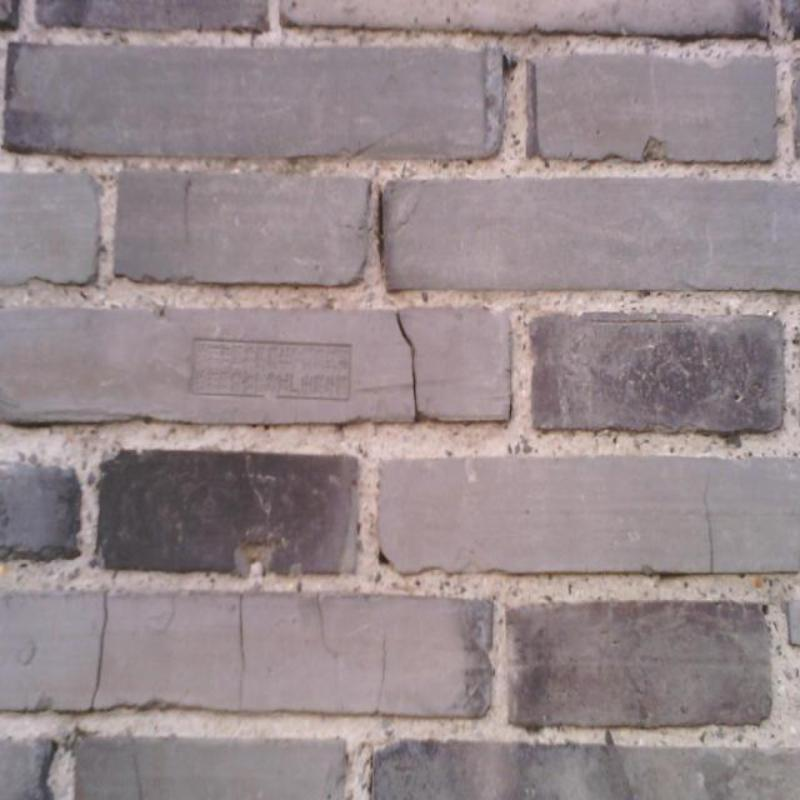pothole: (397, 310, 425, 420), (378, 192, 419, 266), (90, 593, 109, 710), (315, 593, 341, 657), (371, 636, 387, 717), (703, 484, 714, 573), (238, 594, 246, 711), (130, 740, 144, 799), (185, 181, 192, 242)
